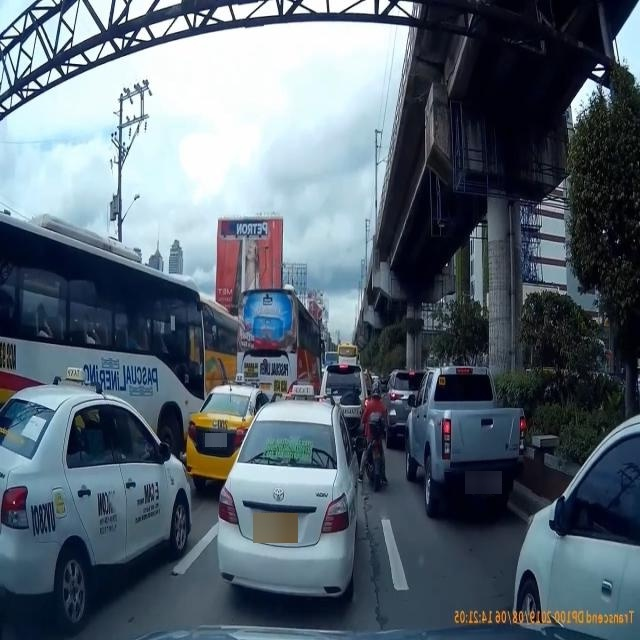bus: (0, 221, 206, 478), (232, 295, 331, 405)
car: (0, 389, 192, 611), (216, 399, 357, 603), (406, 356, 512, 522), (185, 383, 273, 487), (386, 363, 440, 452)
motorcycle: (356, 372, 388, 495)
